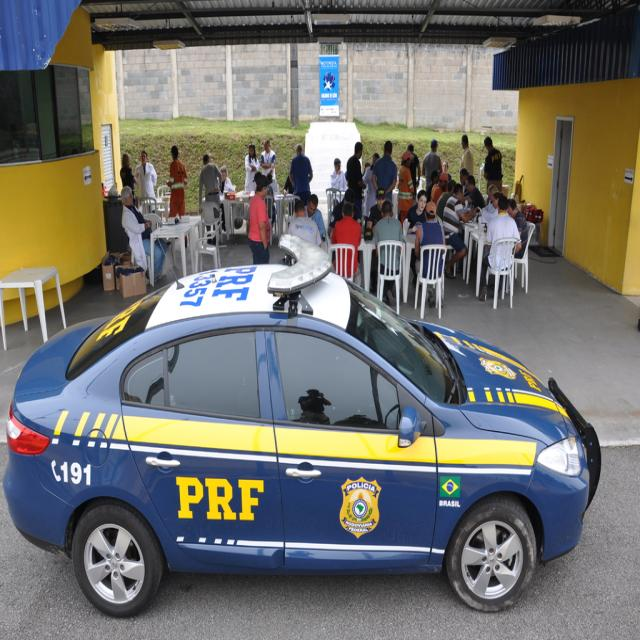car: (20, 243, 594, 620)
